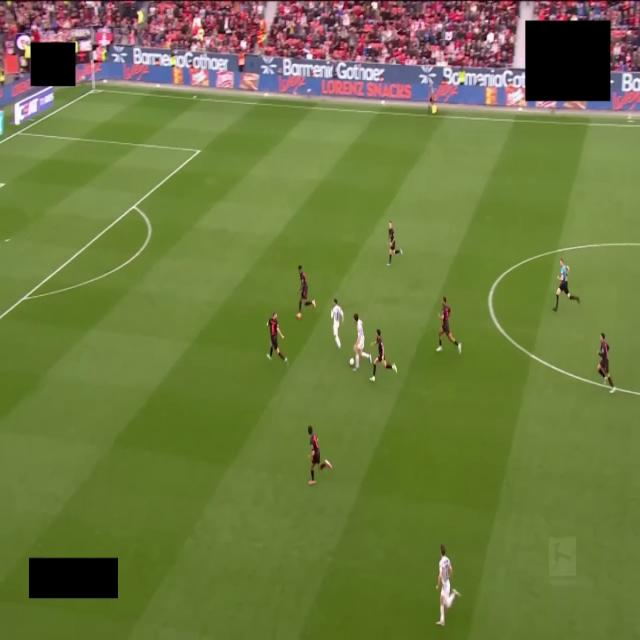ball: (349, 358, 354, 367)
player: (437, 544, 459, 625), (370, 329, 397, 382), (308, 426, 331, 485), (437, 297, 461, 352), (267, 312, 288, 363), (354, 313, 372, 370), (598, 333, 615, 393), (297, 265, 315, 319), (331, 299, 344, 348), (388, 221, 402, 265)
referee: (554, 259, 579, 311)
